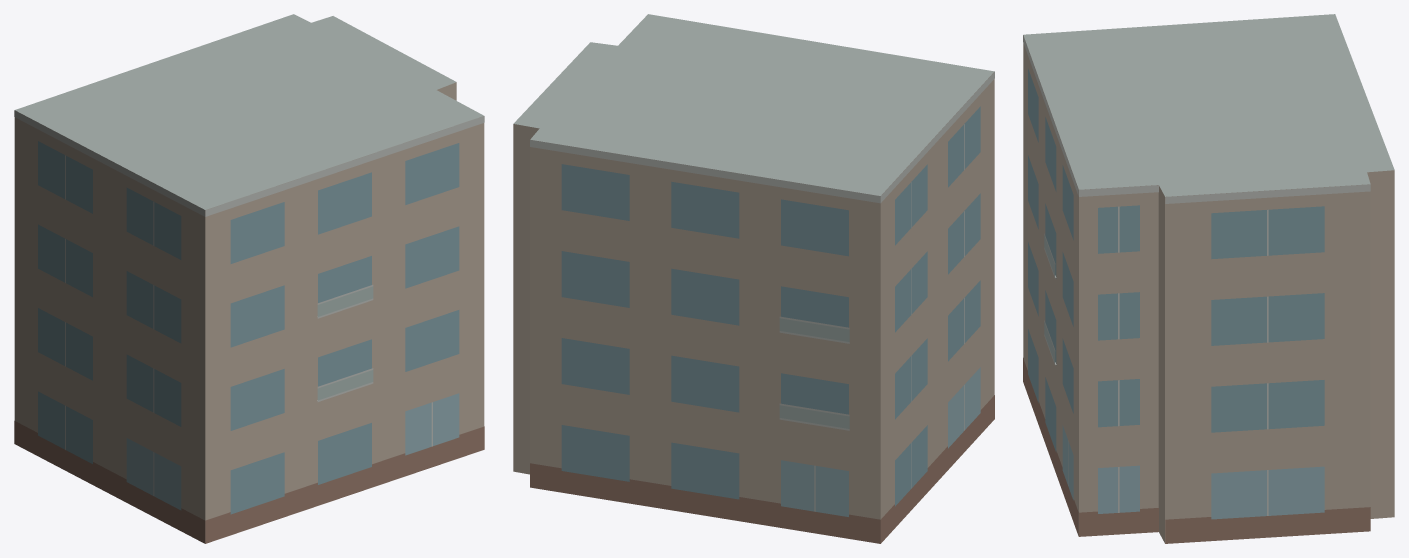
File: survey-upis-32699434.glb
The picture shows the model from 3 angles, left to right: view 1: azimuth 30°, elevation 25°; view 2: azimuth 150°, elevation 25°; view 3: azimuth 270°, elevation 25°; orthographic projection. The views are drawn at different scales.
Visible parts, largest first — view 1: survey-upis-32699434.tmp; view 2: survey-upis-32699434.tmp; view 3: survey-upis-32699434.tmp.
Part boxes in pixels (bbox=[...]): survey-upis-32699434.tmp: bbox=[14, 14, 484, 543]; survey-upis-32699434.tmp: bbox=[513, 14, 994, 543]; survey-upis-32699434.tmp: bbox=[1023, 14, 1394, 543].
Bounding box in the file's own units: 13.26 × 11.73 × 11.39.
